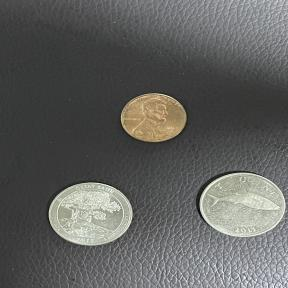coin: (40, 176, 140, 250), (192, 164, 288, 240), (115, 89, 193, 148)
